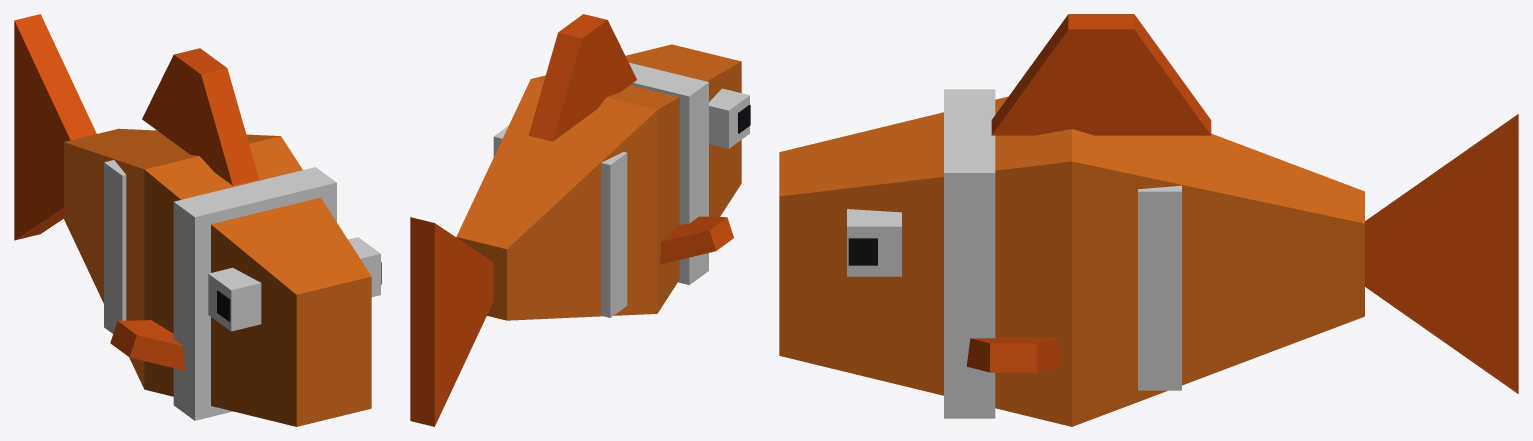
File: clownfish.glb
The picture shows the model from 3 angles, left to right: view 1: azimuth 30°, elevation 25°; view 2: azimuth 150°, elevation 25°; view 3: azimuth 270°, elevation 25°; orthographic projection. The views are drawn at different scales.
Parts seen in each view (by area): view 1: clownfish; view 2: clownfish; view 3: clownfish.
Boxes of the visible parts, box(x1,y1,x2,y2) form: clownfish: box(14, 14, 381, 426); clownfish: box(410, 14, 750, 426); clownfish: box(779, 14, 1518, 426).
Size of the model in its own units: 0.0801 by 0.099 by 0.1818.
